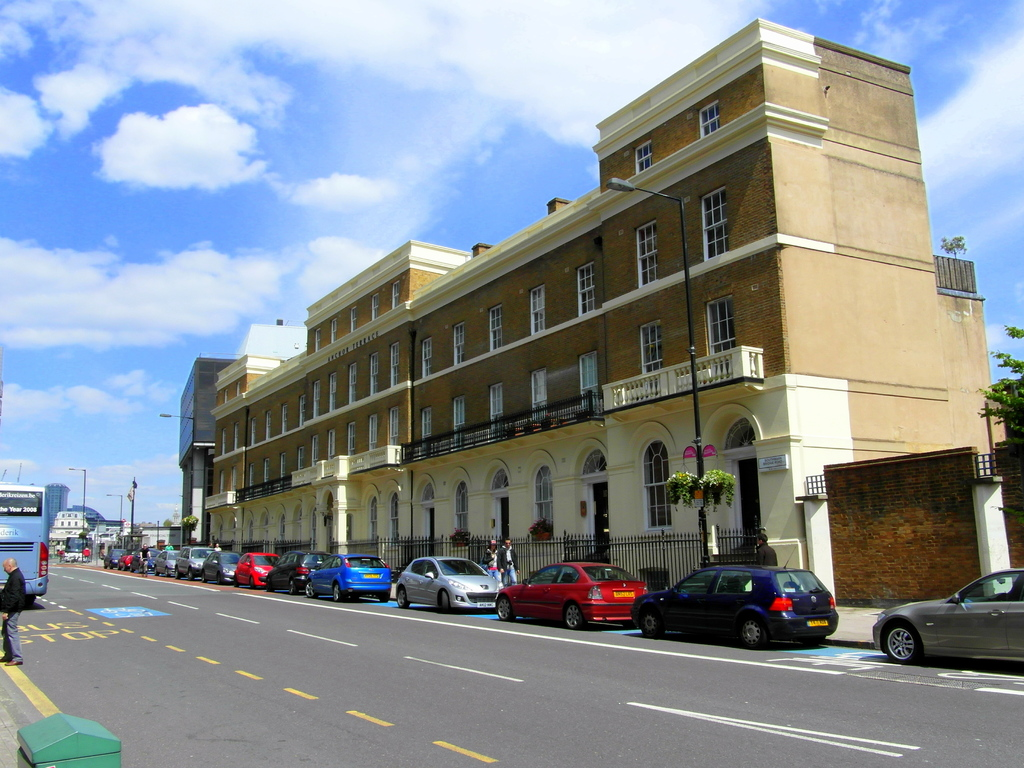Car: (101, 542, 846, 648), (867, 575, 1021, 676)
